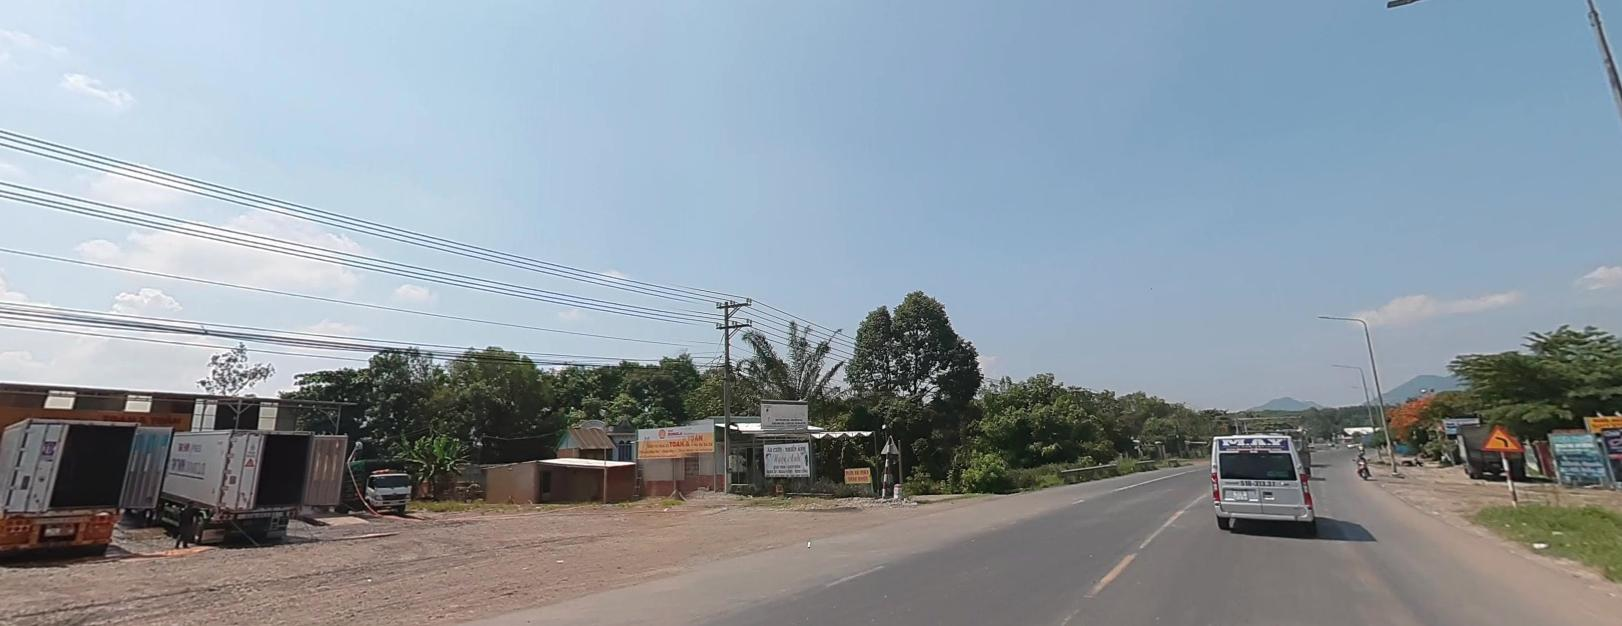Nguy hiem: (1481, 422, 1524, 451)
